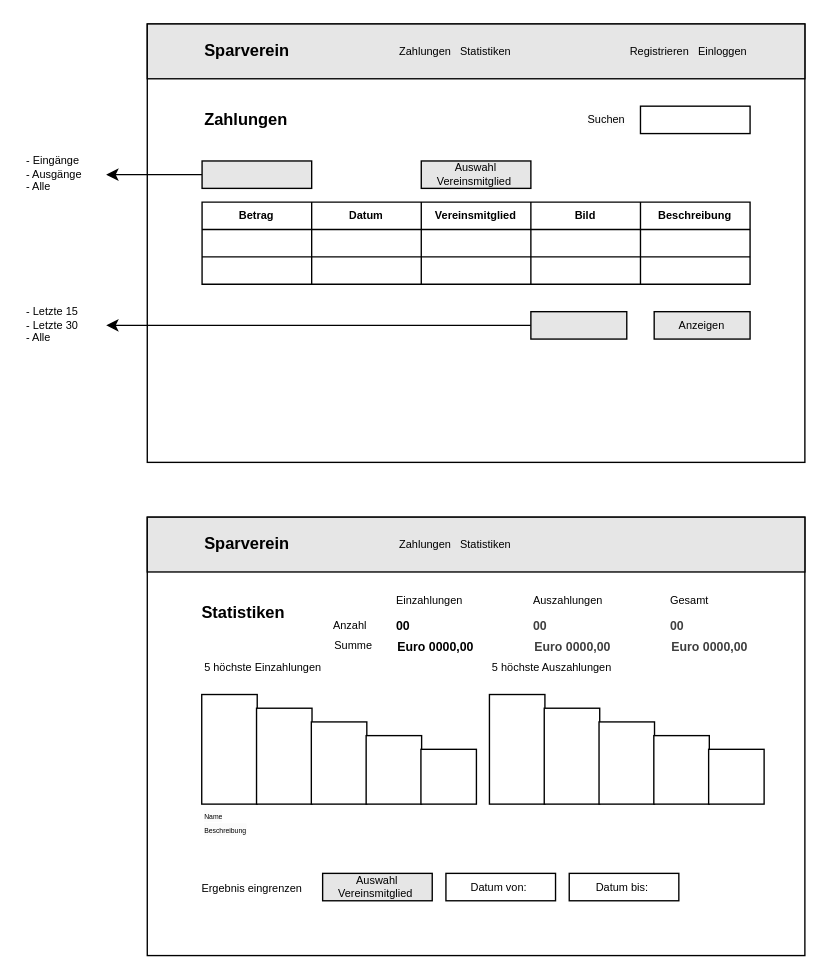
This 829x980 diagram has some shape labels left out. The centre of each missing label's shape, as x and y in pixels:
"Auswahl Ein-/Ausg." goes at (x=256, y=174).
"Auswahl Ergebnisse" goes at (x=578, y=324).
